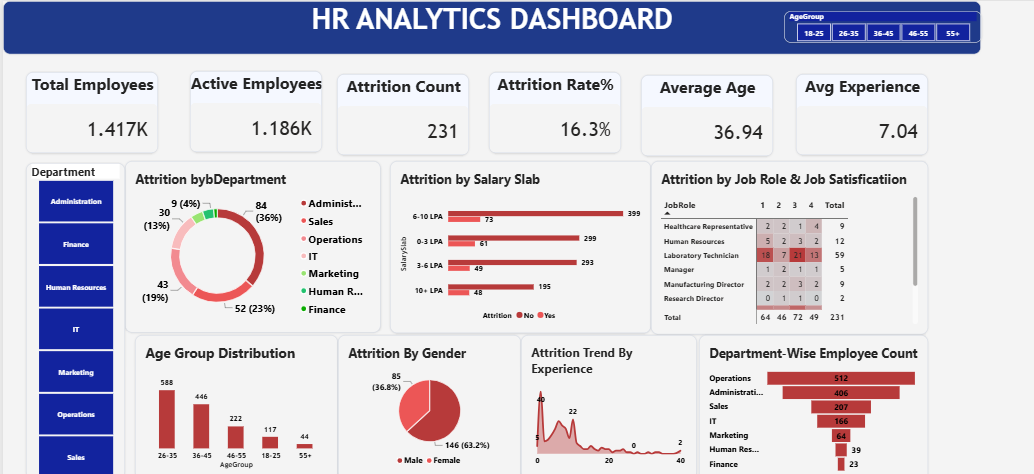

The page's visual inventory and layout, read from the dashboard file:
{"tool":"powerbi","page":{"name":"Page 1","canvas":[1920,1080],"ordinal":0},"visuals":[{"type":"textbox","box":[0,0,1630.4,89.3],"z":0},{"type":"cardVisual","title":"Average Age","fields":{"Data":["Avg(HR_Analytics-4.Age)"]},"box":[1062.7,123.1,220,135],"z":1000},{"type":"cardVisual","title":"Total Employees","fields":{"Data":["CountNonNull(HR_Analytics-4.EmpID)"]},"box":[38.9,118.8,220,135],"z":2000},{"type":"cardVisual","title":"Active Employees","fields":{"Data":["CountNonNull(HR_Analytics-4.EmployeeCount)"]},"box":[311,116.6,220,135],"z":3000},{"type":"cardVisual","title":"Attrition Count","fields":{"Data":["Sum(HR_Analytics-4.AttribitionCount)"]},"box":[557.3,121,220,135],"z":4000},{"type":"cardVisual","title":"Attrition Rate%","fields":{"Data":["HR_Analytics-4.Attrition Rate %"]},"box":[810,118.8,220,135],"z":5000},{"type":"cardVisual","title":"Avg Experience","fields":{"Data":["Avg(HR_Analytics-4.YearsatCompany)"]},"box":[1321.9,121,220,135],"z":6000},{"type":"donutChart","title":"Attrition bybDepartment","fields":{"Category":["HR_Analytics-4.Department"],"Y":["Sum(HR_Analytics-4.AttribitionCount)"]},"box":[203.4,267.2,426,286],"z":7000},{"type":"clusteredBarChart","title":"Attrition by Salary Slab","fields":{"Category":["HR_Analytics-4.SalarySlab"],"Series":["HR_Analytics-4.Attrition"],"Y":["CountNonNull(HR_Analytics-4.EmpID)"]},"box":[645.5,267.3,434.5,287.3],"z":8000},{"type":"pivotTable","title":"Attrition by Job Role & Job Satisficatiion","fields":{"Columns":["HR_Analytics-4.JobSatisfaction"],"Rows":["HR_Analytics-4.JobRole"],"Values":["Sum(HR_Analytics-4.AttribitionCount)"]},"box":[1080,267.3,461.8,289.1],"z":9000},{"type":"columnChart","title":"Age Group Distribution","fields":{"Category":["HR_Analytics-4.AgeGroup"],"Y":["Sum(HR_Analytics-4.EmployeeCount)"]},"box":[220,556.4,338.2,240],"z":10000},{"type":"pieChart","title":"Attrition By Gender","fields":{"Category":["HR_Analytics-4.Gender"],"Y":["Sum(HR_Analytics-4.AttribitionCount)"]},"box":[558.2,556.4,305.5,240],"z":11000},{"type":"areaChart","title":"Attrition Trend By Experience","fields":{"Category":["HR_Analytics-4.TotalExperience(Years)"],"Y2":["Sum(HR_Analytics-4.AttribitionCount)"]},"box":[863.6,556.4,292.7,240],"z":12000},{"type":"funnel","title":"Department-Wise Employee Count","fields":{"Category":["HR_Analytics-4.Department"],"Y":["CountNonNull(HR_Analytics-4.EmpID)"]},"box":[1160,556.4,381.8,245.5],"z":13000},{"type":"slicer","fields":{"Values":["HR_Analytics-4.Department"]},"box":[38.6,270.2,164.9,526.3],"z":14000},{"type":"slicer","fields":{"Values":["HR_Analytics-4.AgeGroup"]},"box":[1301.6,16.4,330,53.3],"z":15000}]}

Visuals, with their boxes in screenshot pixels (x1, y1, x2, y2):
textbox: bbox=(19, 0, 750, 8)
"Average Age" cardVisual: bbox=(496, 23, 594, 83)
"Total Employees" cardVisual: bbox=(36, 21, 135, 82)
"Active Employees" cardVisual: bbox=(158, 20, 257, 81)
"Attrition Count" cardVisual: bbox=(269, 22, 368, 83)
"Attrition Rate%" cardVisual: bbox=(382, 21, 481, 82)
"Avg Experience" cardVisual: bbox=(612, 22, 711, 83)
"Attrition bybDepartment" donutChart: bbox=(110, 88, 301, 216)
"Attrition by Salary Slab" clusteredBarChart: bbox=(308, 88, 503, 217)
"Attrition by Job Role & Job Satisficatiion" pivotTable: bbox=(503, 88, 711, 217)
"Age Group Distribution" columnChart: bbox=(118, 217, 269, 325)
"Attrition By Gender" pieChart: bbox=(269, 217, 406, 325)
"Attrition Trend By Experience" areaChart: bbox=(406, 217, 538, 325)
"Department-Wise Employee Count" funnel: bbox=(539, 217, 711, 327)
slicer - HR_Analytics-4.Department: bbox=(36, 89, 110, 325)
